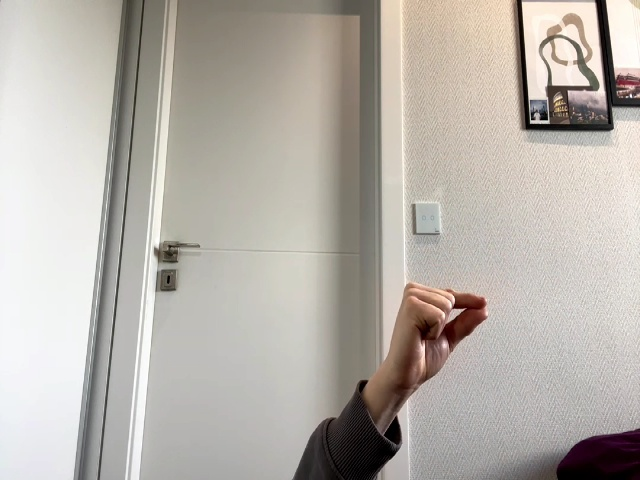P: (390, 282, 488, 385)
